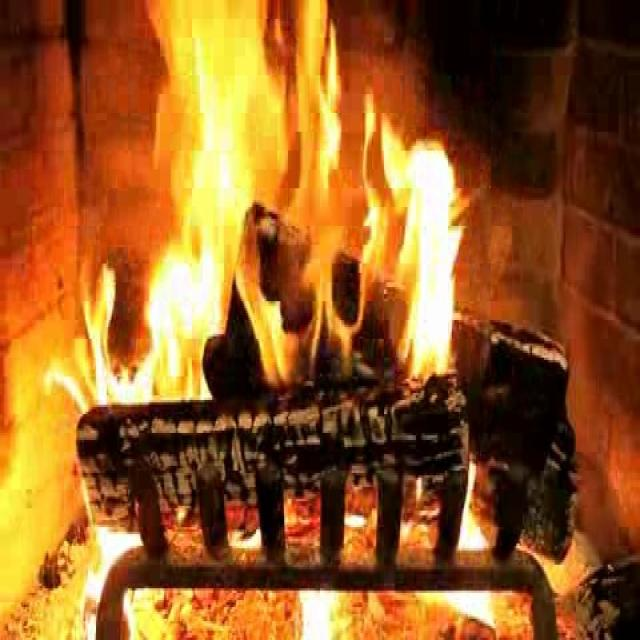fire: (111, 14, 463, 418)
